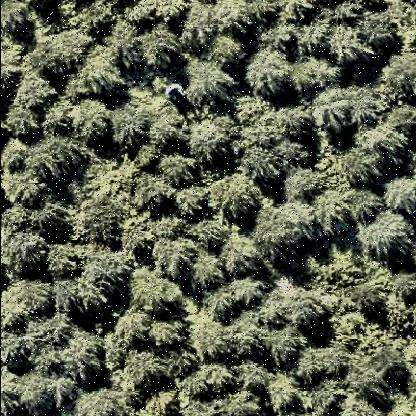tree-top: (74, 247, 134, 323), (240, 276, 320, 329), (160, 154, 234, 210), (269, 277, 333, 336), (256, 198, 320, 256), (185, 108, 245, 168), (348, 336, 412, 392), (211, 247, 270, 306), (233, 91, 288, 153), (58, 323, 112, 385), (72, 189, 131, 245), (206, 168, 264, 223), (331, 82, 391, 134), (308, 81, 361, 139), (127, 264, 183, 316), (2, 225, 55, 279), (187, 309, 240, 363), (77, 42, 127, 98), (243, 45, 296, 97), (185, 56, 238, 108), (364, 208, 416, 260), (24, 311, 75, 364), (22, 189, 76, 239), (136, 23, 186, 75), (67, 95, 117, 147), (42, 25, 93, 75), (2, 276, 58, 321), (296, 338, 347, 387), (333, 144, 385, 192), (219, 227, 267, 279), (15, 369, 68, 416), (192, 352, 242, 401), (323, 19, 371, 70), (34, 145, 86, 191), (144, 105, 192, 153), (292, 53, 342, 99), (2, 94, 47, 145), (262, 367, 308, 416), (126, 343, 172, 392), (129, 171, 177, 217), (280, 163, 328, 208), (111, 99, 154, 149), (293, 345, 339, 391), (228, 1, 280, 40), (186, 247, 230, 293), (263, 323, 307, 369), (224, 272, 272, 314), (381, 45, 416, 102), (349, 274, 394, 318), (183, 1, 225, 48), (104, 18, 146, 64), (385, 274, 416, 336), (208, 30, 253, 72), (145, 312, 189, 354), (232, 357, 276, 399), (342, 183, 384, 225), (242, 145, 286, 185), (173, 178, 211, 224), (117, 307, 157, 350), (1, 37, 34, 88), (159, 149, 199, 189), (45, 240, 83, 282), (380, 174, 416, 218), (76, 387, 129, 416), (390, 1, 416, 50), (339, 390, 383, 416), (1, 1, 33, 36), (145, 2, 191, 22)
